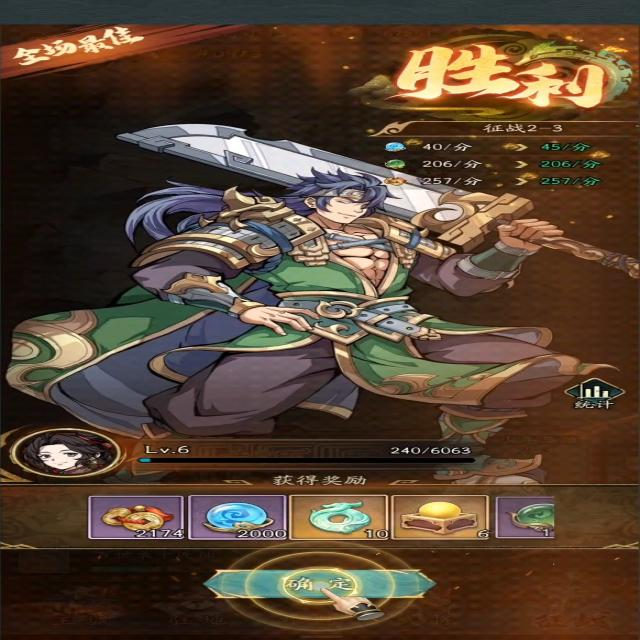hint-guide: (220, 539, 423, 633)
operation-confirm: (199, 569, 437, 601)
